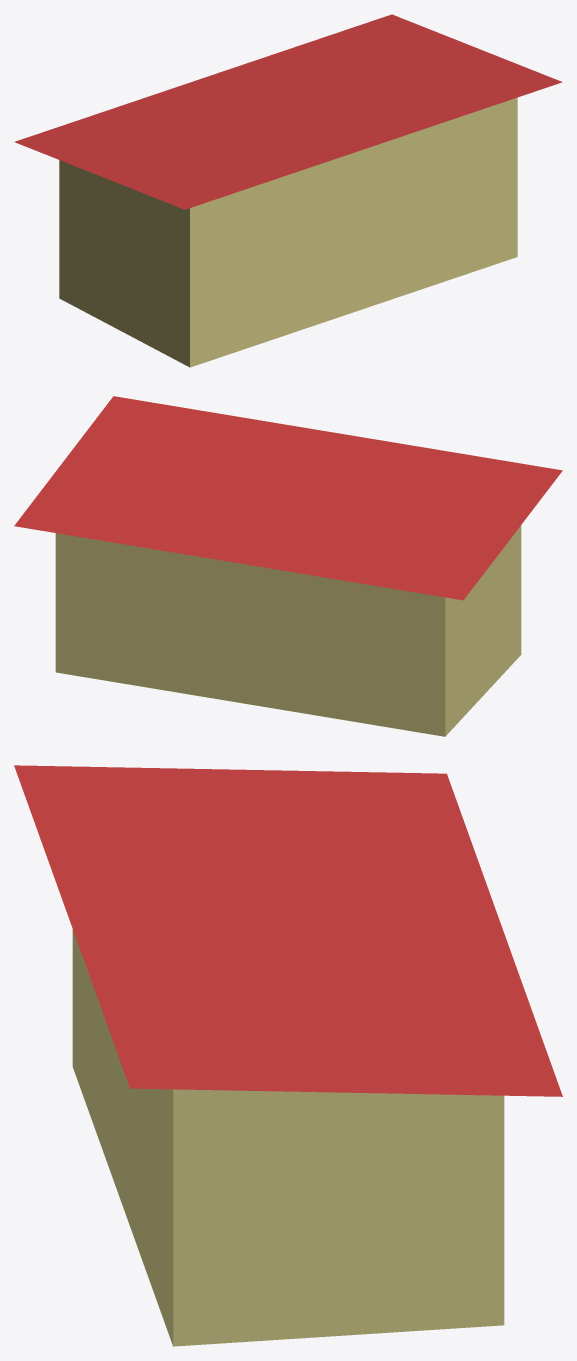
3 renders of one model, top to bottom at view 1: azimuth 30°, elevation 25°; view 2: azimuth 150°, elevation 25°; view 3: azimuth 270°, elevation 25°, orthographic. The views are drawn at different scales.
Size of the model in its own units: 16.15 by 10.67 by 6.07.
